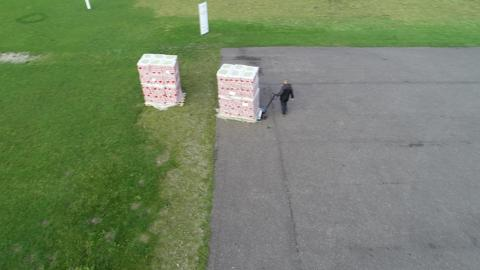RockwoolPallet: (139, 54, 185, 108)
